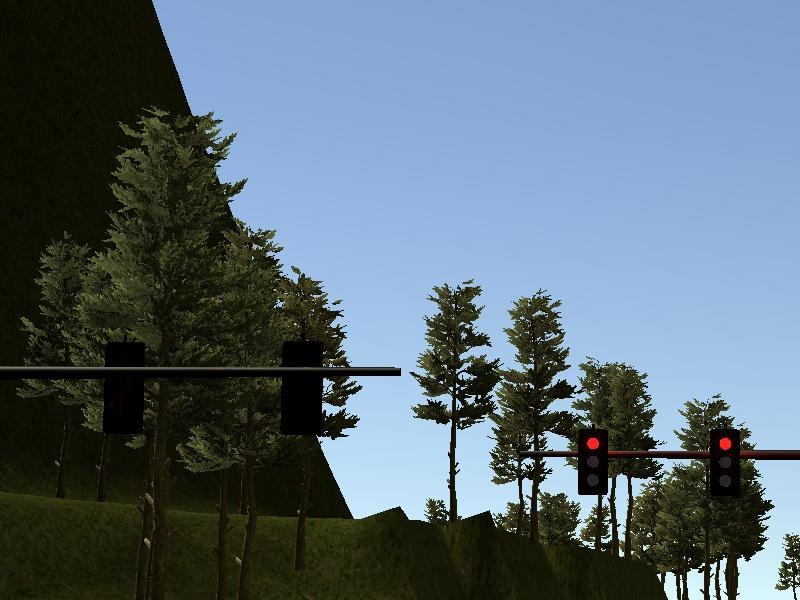Red: (577, 430, 610, 493), (710, 430, 740, 495)
